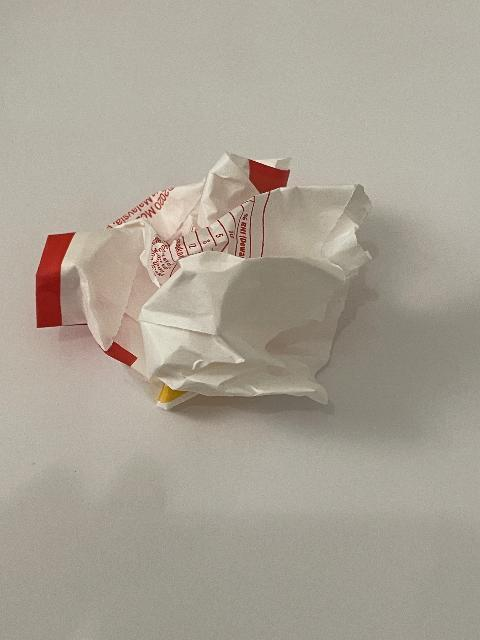paperbag: (35, 152, 373, 414)
